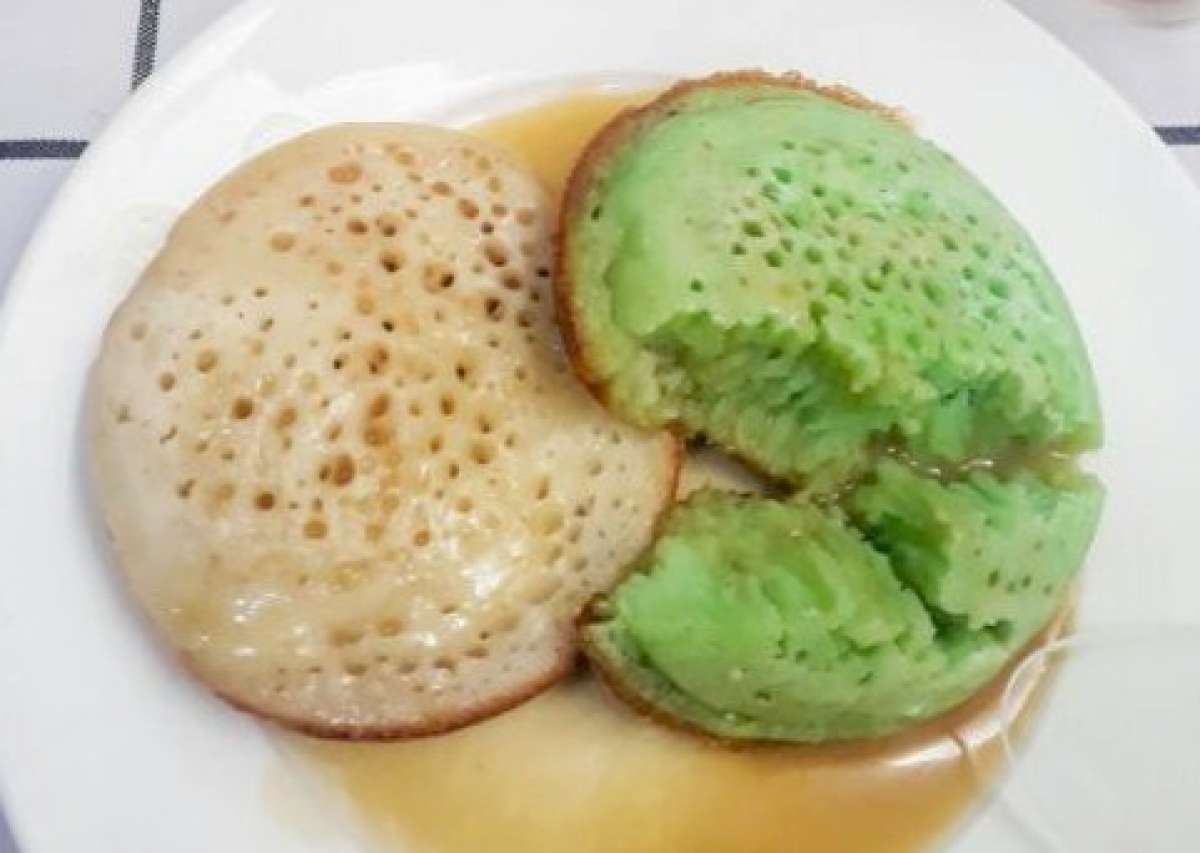srabi: (40, 109, 675, 727)
